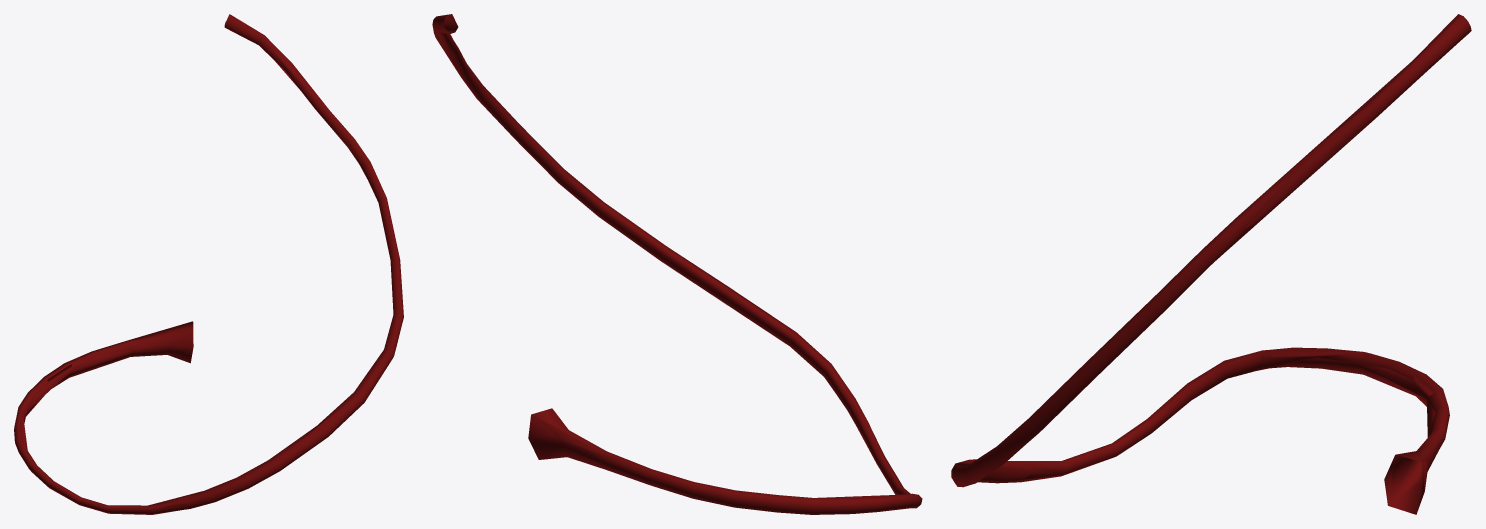
The model's file is R arteria circumflexa humeri.fbx.
The picture shows the model from 3 angles, left to right: view 1: azimuth 30°, elevation 25°; view 2: azimuth 150°, elevation 25°; view 3: azimuth 270°, elevation 25°; orthographic projection. The views are drawn at different scales.
Visible parts, largest first — view 1: R arteria circumflexa humeri, R arteria circumflexa humeri low; view 2: R arteria circumflexa humeri, R arteria circumflexa humeri low; view 3: R arteria circumflexa humeri, R arteria circumflexa humeri low.
Boxes of the visible parts, bbox=[...] form: R arteria circumflexa humeri: bbox=[14, 14, 403, 514]; R arteria circumflexa humeri low: bbox=[20, 38, 389, 510]; R arteria circumflexa humeri: bbox=[432, 14, 922, 514]; R arteria circumflexa humeri low: bbox=[435, 15, 920, 511]; R arteria circumflexa humeri: bbox=[951, 14, 1471, 514]; R arteria circumflexa humeri low: bbox=[956, 18, 1461, 513].
Bounding box in the file's own units: 10.2 × 10.66 × 8.01.
